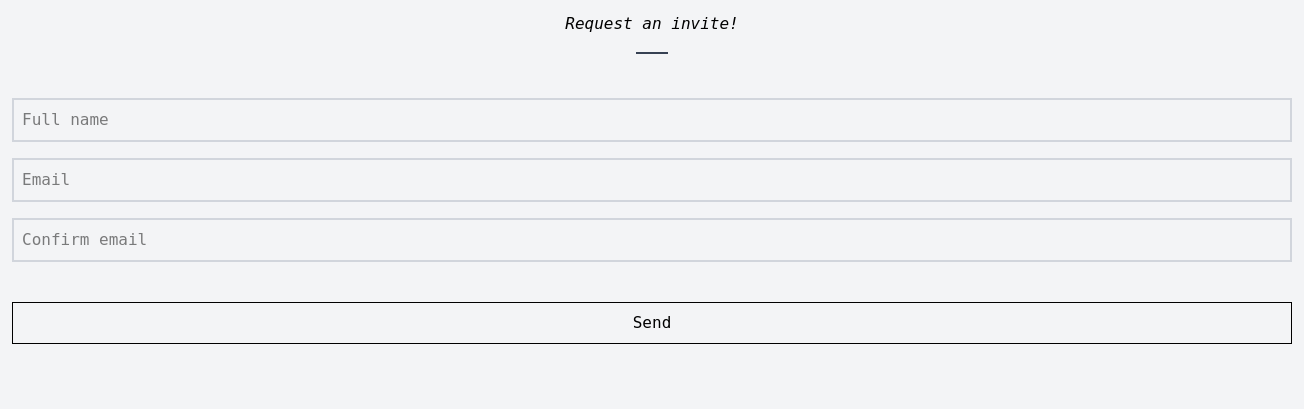
it: Form Component › Should show validation error when emails do not match
In the field with placeholder "Email": (652, 180) [12, 158, 1292, 202], type "hend@example.com"
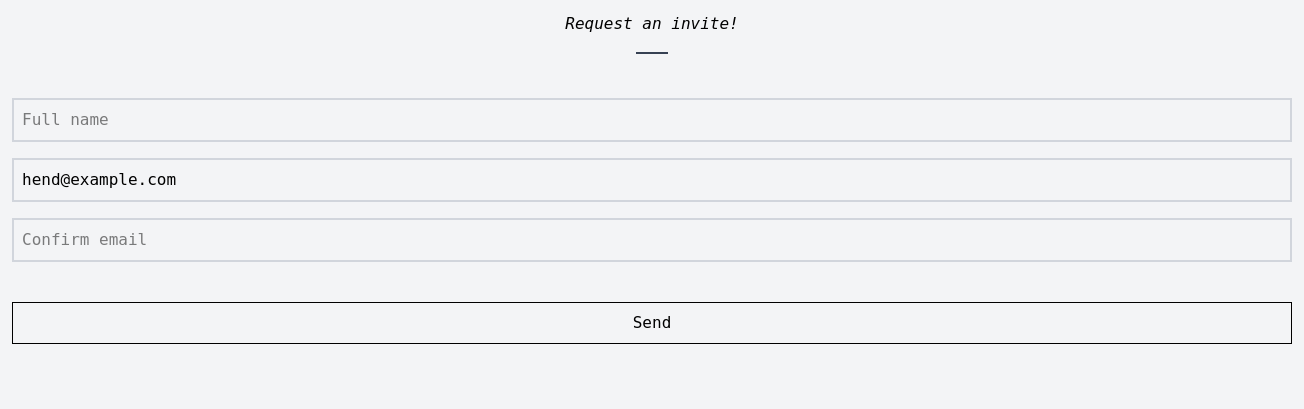
In the field with placeholder "Confirm email": (652, 240) [12, 218, 1292, 262], type "hend12345@example.com"
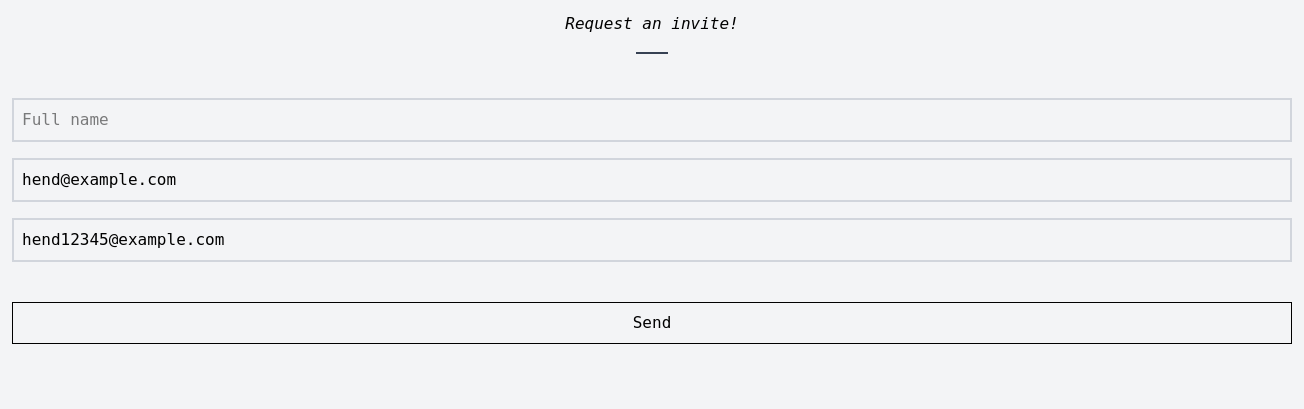
Click the button "Send": (652, 323) [12, 302, 1292, 344]
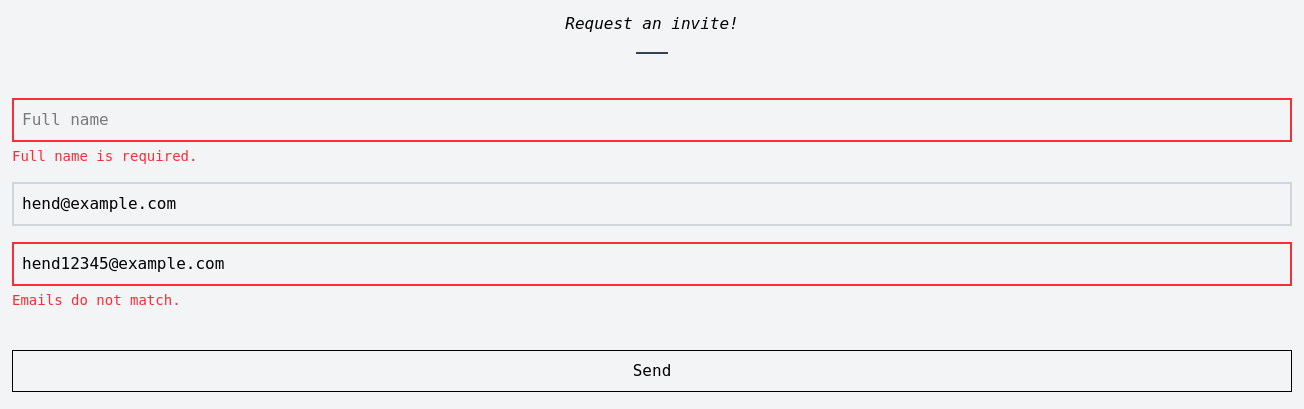
Expected: the text "Emails do not match." is shown, [12, 292, 181, 308]
